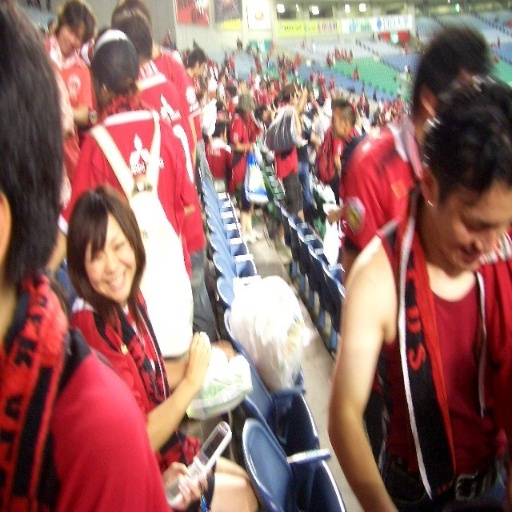hand: (161, 460, 208, 508), (185, 331, 211, 380), (217, 344, 235, 360), (327, 206, 337, 226)
